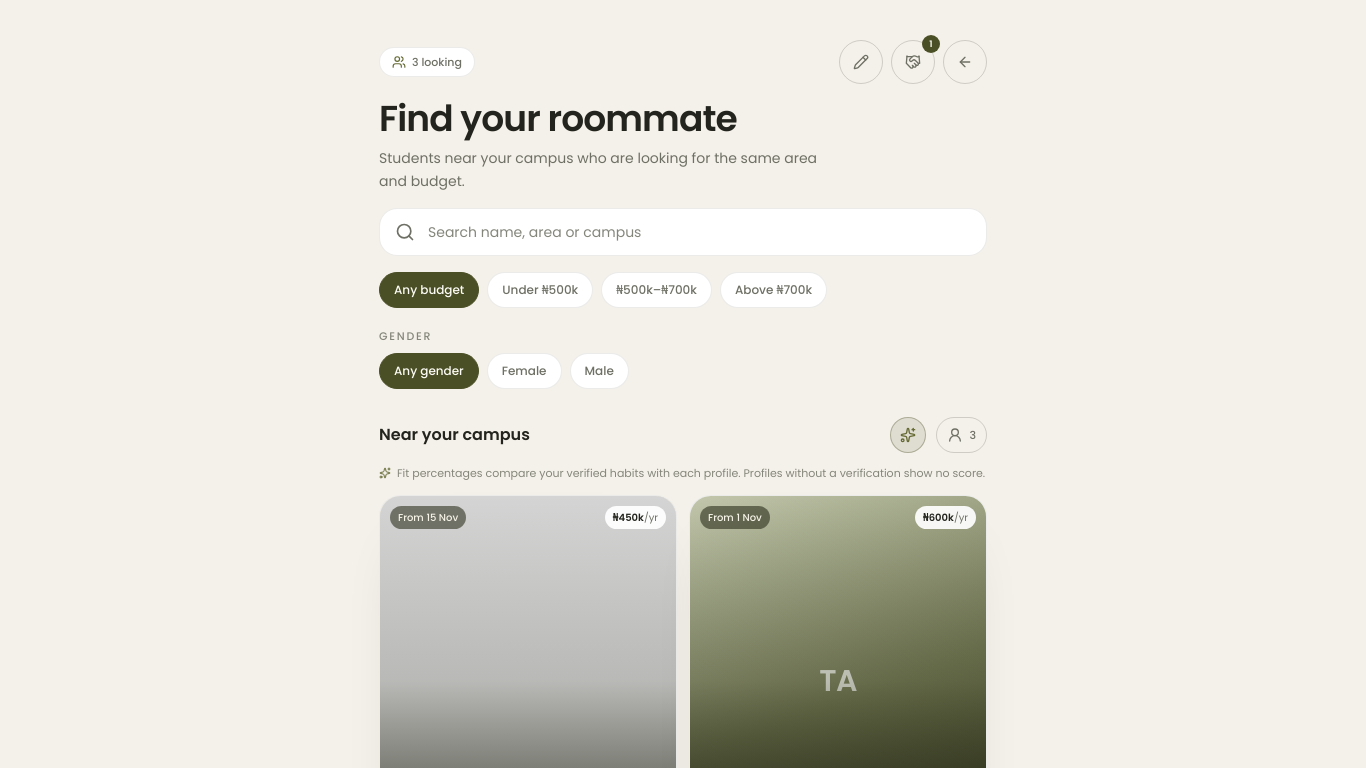
it: Roommate discovery screen › opens the connected roommates from the button beside the back arrow
This screenshot has width=1366, height=768.
Click the button named "Connections (1)": (913, 62) [891,40,935,84]
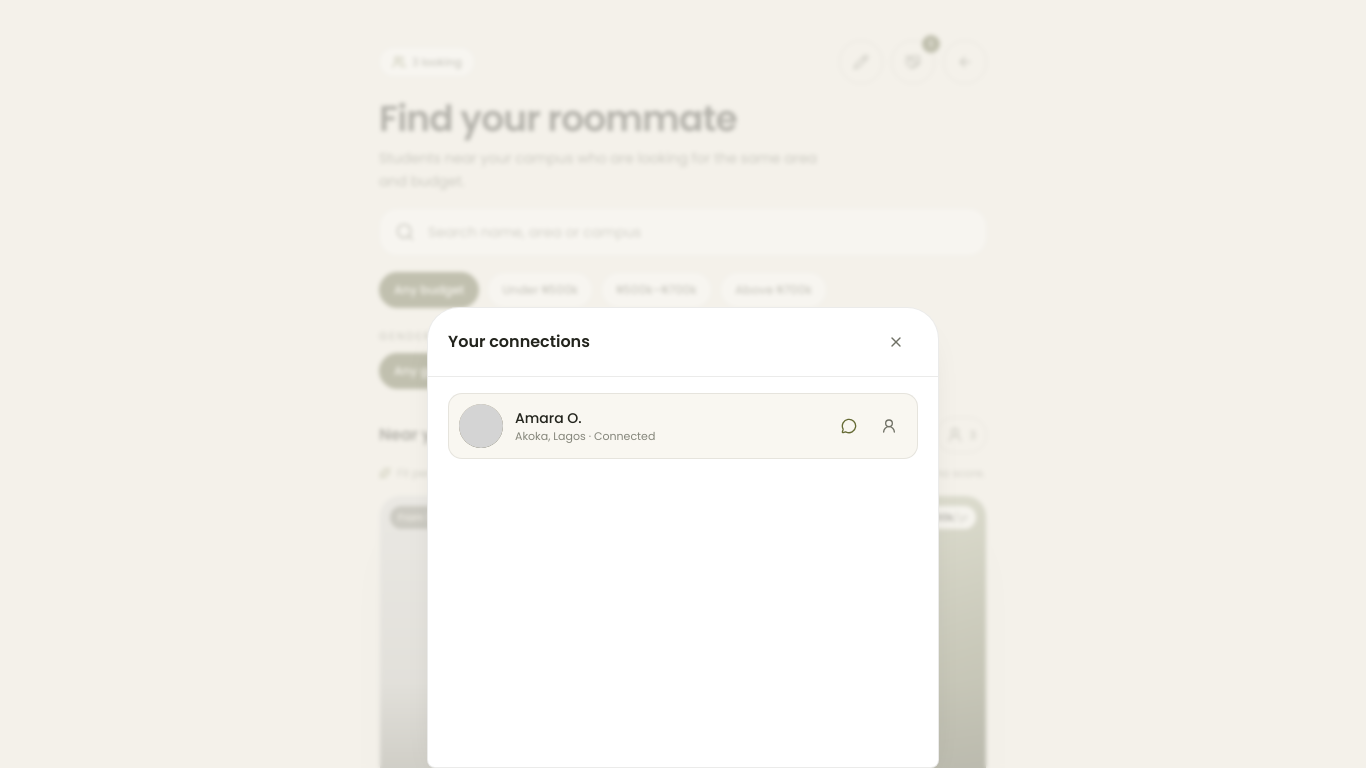
Expected: the dialog "Your connections" is shown, [427,307,939,767]
